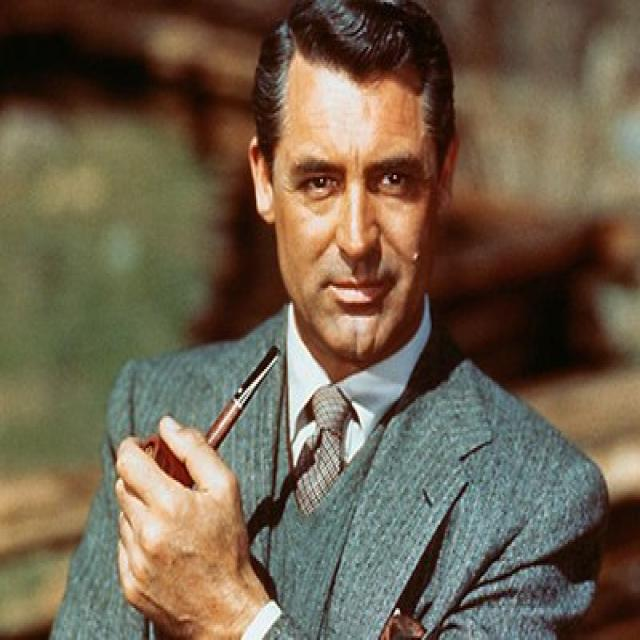human: (54, 11, 617, 640)
